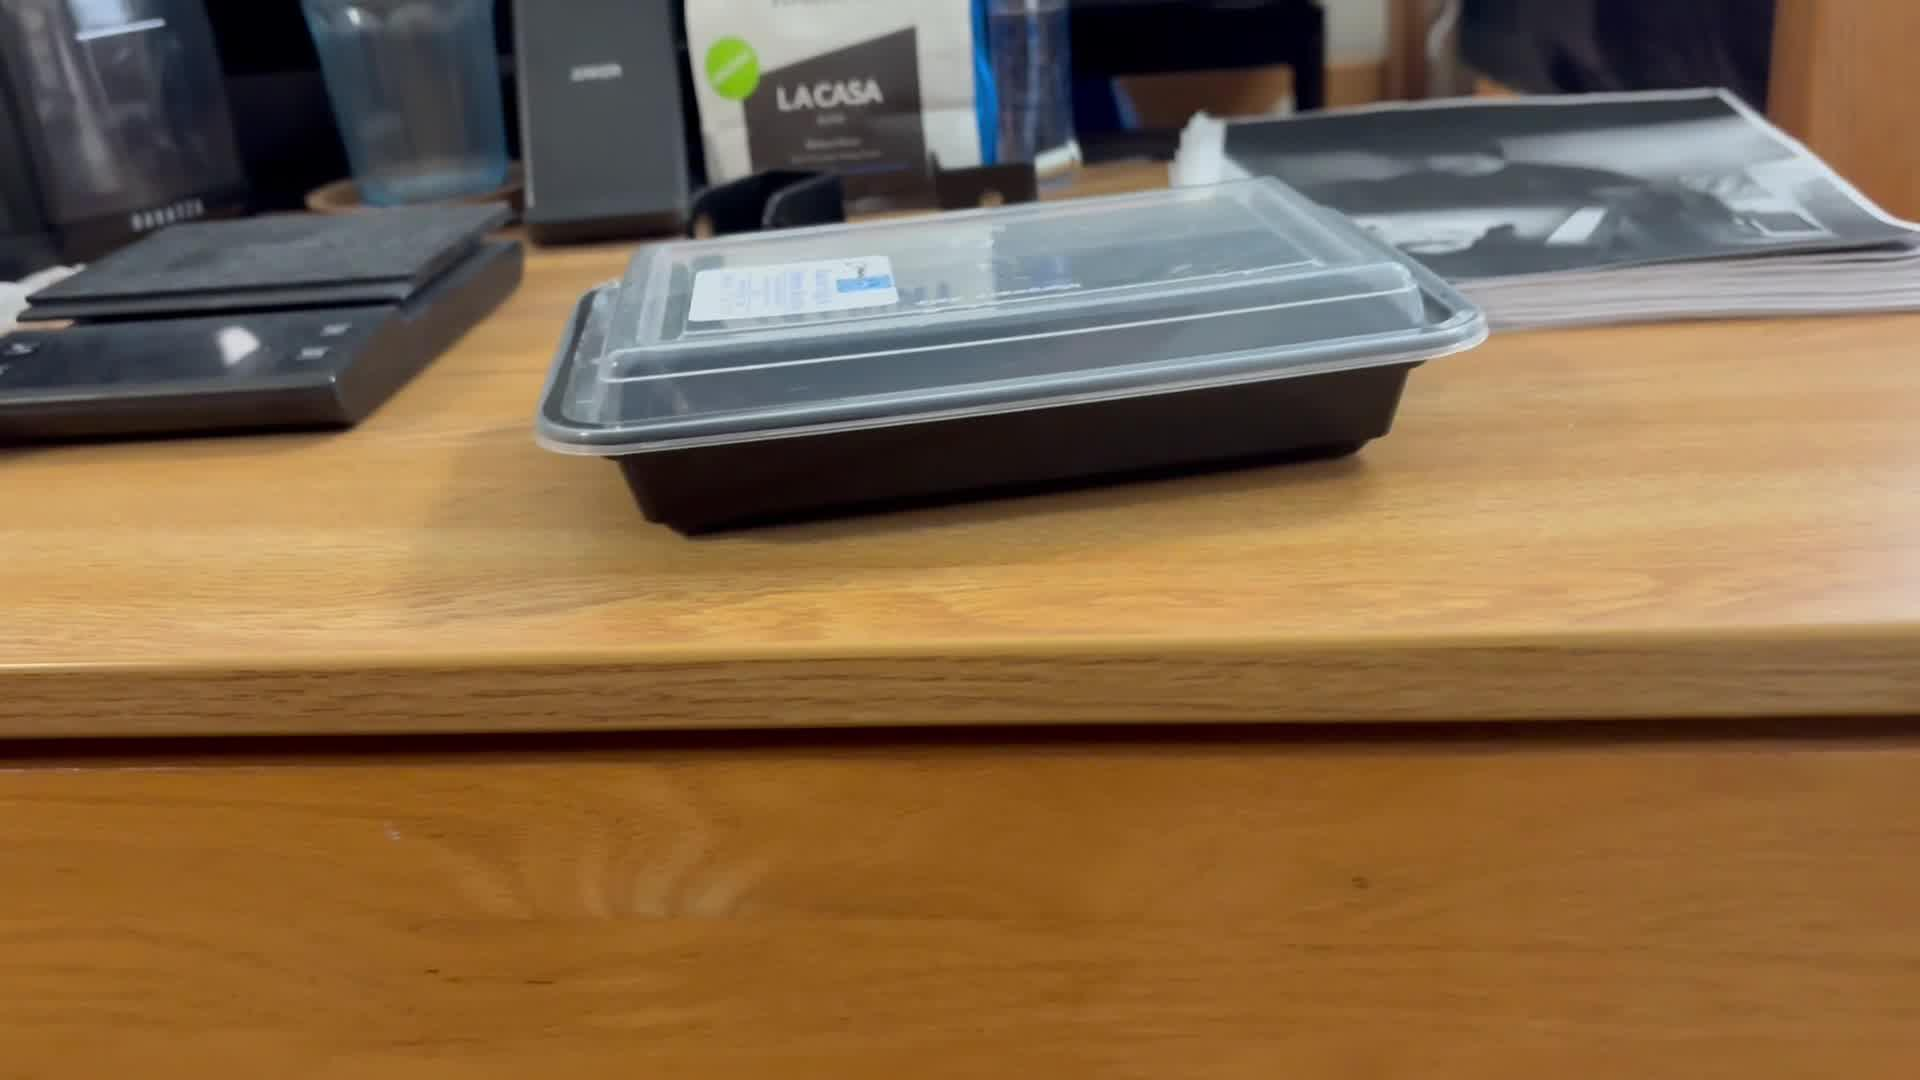lp_cup_lids: (546, 174, 1462, 537)
